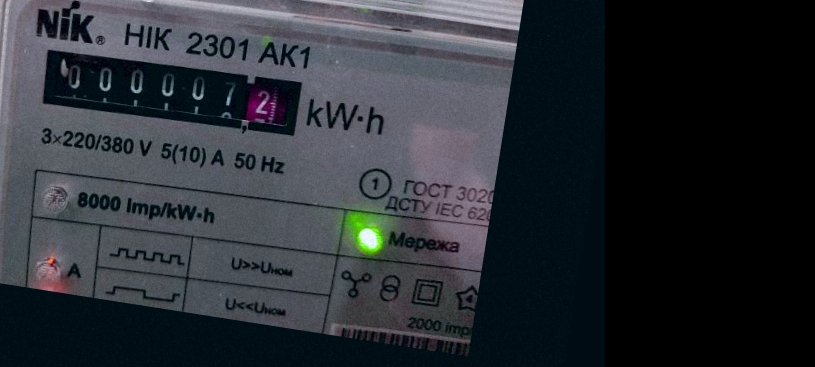0: (63, 60, 84, 90), (157, 69, 178, 98), (95, 63, 115, 93), (126, 65, 146, 95), (188, 73, 207, 103)
2: (252, 88, 272, 116)
7: (219, 77, 238, 109)
screen: (27, 35, 314, 149)
